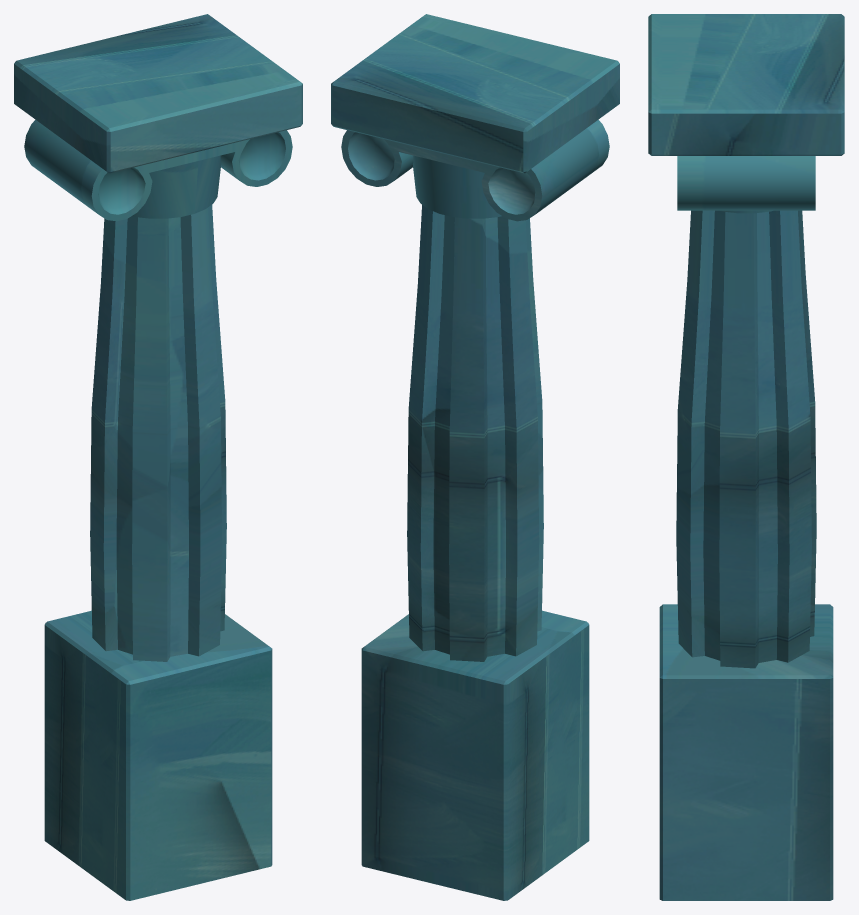
Rendered from SM_PD_Ring_Pillar.fbx.
3 views of the same model, side by side, from view 1: azimuth 30°, elevation 25°; view 2: azimuth 150°, elevation 25°; view 3: azimuth 270°, elevation 25° (orthographic). The views are drawn at different scales.
Parts seen in each view (by area): view 1: SM_PD_Ring_Pillar_01; view 2: SM_PD_Ring_Pillar_01; view 3: SM_PD_Ring_Pillar_01.
Part boxes in pixels (x1,y1,x2,y2): SM_PD_Ring_Pillar_01: (14, 14, 302, 900); SM_PD_Ring_Pillar_01: (331, 14, 619, 900); SM_PD_Ring_Pillar_01: (648, 14, 844, 900).
Bounding box in the file's own units: 335 × 1244 × 276.
